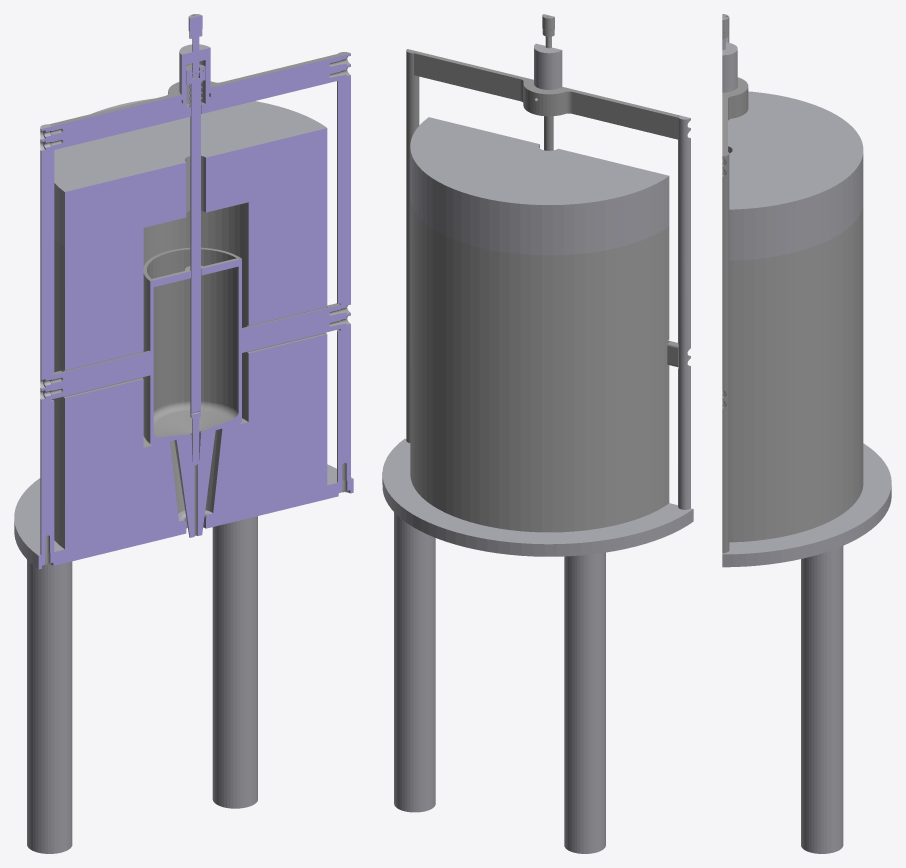
File: salt_dispensing_cutaway.glb
3 renders of one model, left to right at view 1: azimuth 30°, elevation 25°; view 2: azimuth 150°, elevation 25°; view 3: azimuth 270°, elevation 25°, orthographic. The views are drawn at different scales.
Parts seen in each view (by area): view 1: geometry_29, geometry_30, geometry_32, geometry_27, geometry_26, geometry_28, geometry_33, geometry_10, geometry_21, geometry_23, geometry_31, geometry_17 (+5 smaller); view 2: geometry_28, geometry_30, geometry_26, geometry_9, geometry_20, geometry_22, geometry_13; view 3: geometry_28, geometry_26, geometry_30, geometry_22, geometry_9, geometry_13.
Boxes of the visible parts, x1,y1,x2,y2 form: geometry_29: (65,183,327,549); geometry_30: (14,464,353,853); geometry_32: (50,247,339,537); geometry_27: (65,128,327,246); geometry_26: (54,98,326,246); geometry_28: (52,202,326,549); geometry_33: (51,259,340,537); geometry_10: (51,56,340,150); geometry_21: (41,126,54,554); geometry_23: (338,53,350,482); geometry_31: (38,479,353,569); geometry_17: (187,66,205,418); geometry_28: (410,200,669,532); geometry_30: (382,438,693,853); geometry_26: (410,117,669,255); geometry_9: (414,51,680,139); geometry_20: (678,116,690,509); geometry_22: (406,49,419,442); geometry_13: (534,43,562,89); geometry_28: (729,205,863,542); geometry_26: (728,91,863,260); geometry_30: (722,443,891,853); geometry_22: (722,151,729,553); geometry_9: (722,37,748,170); geometry_13: (722,42,737,92).
Bounding box in the file's own units: 0.3048 × 0.7799 × 0.1524.
